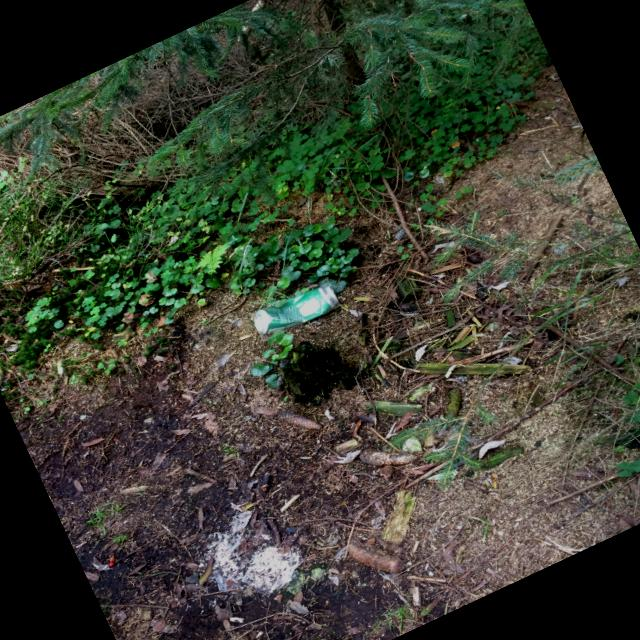Drink can: (255, 286, 338, 334)
